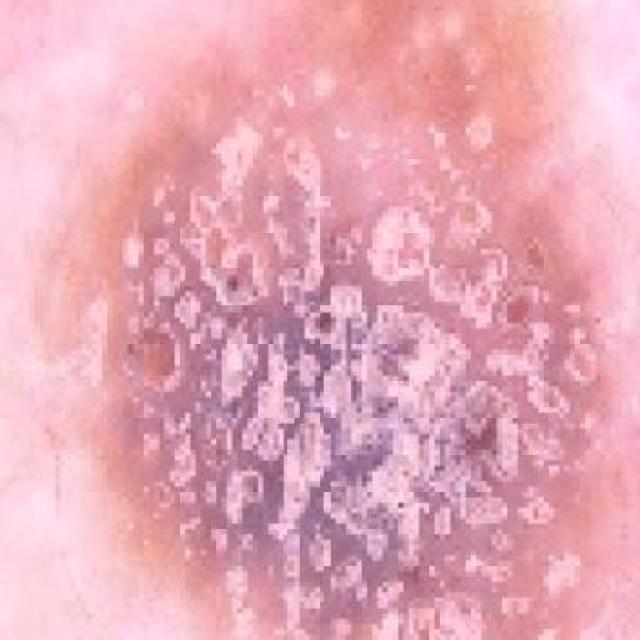BKL: (131, 0, 602, 640)
